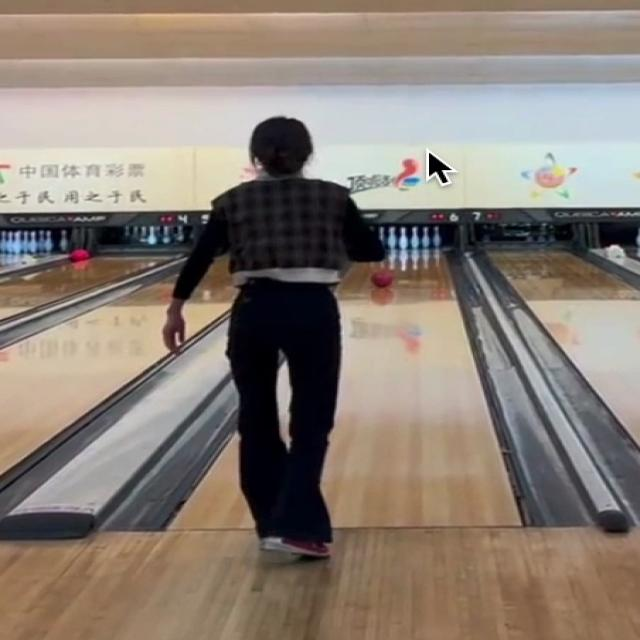alley: (320, 248, 520, 530), (168, 440, 251, 533)
balls: (370, 268, 394, 289)
bottle: (370, 220, 447, 273)
